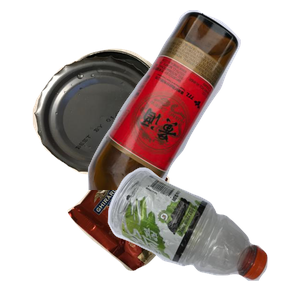glass: (85, 10, 300, 190)
metal: (30, 46, 205, 215)
plastic: (105, 165, 300, 300)
trash: (65, 145, 242, 300)
